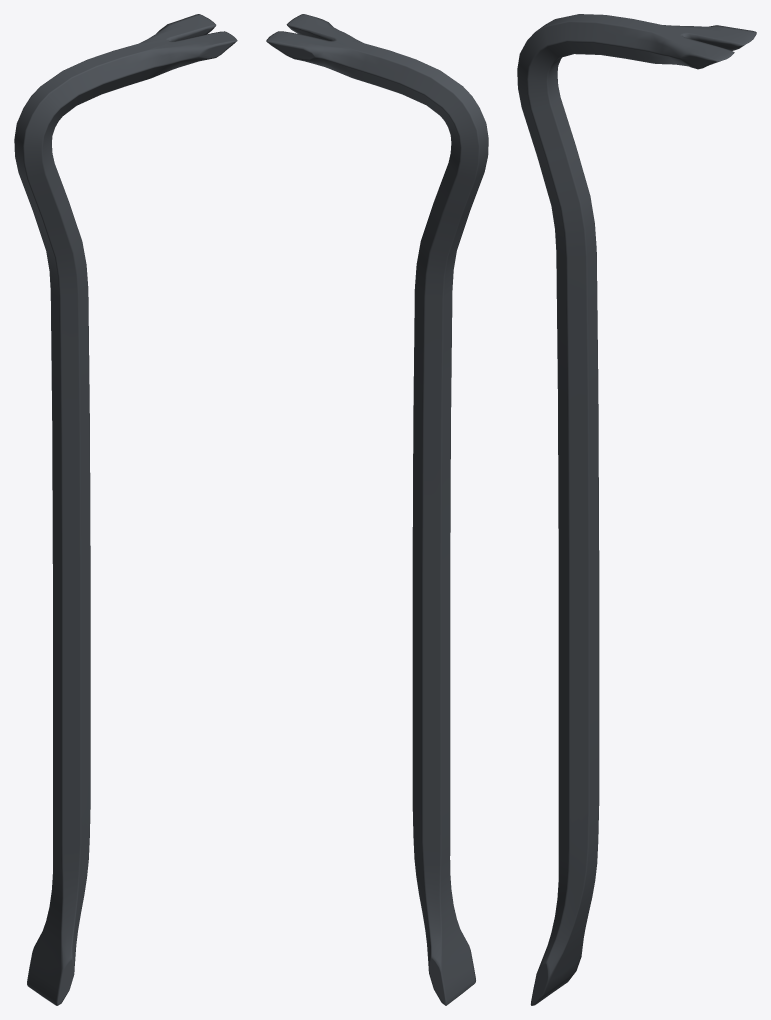
Rendered from crowbar.fbx.
3 renders of one model, left to right at view 1: azimuth 30°, elevation 25°; view 2: azimuth 150°, elevation 25°; view 3: azimuth 330°, elevation 25°, orthographic. The views are drawn at different scales.
Parts seen in each view (by area): view 1: crowbar_01; view 2: crowbar_01; view 3: crowbar_01.
Part boxes in pixels (bbox=[...]): crowbar_01: bbox=[14, 14, 237, 1005]; crowbar_01: bbox=[266, 14, 488, 1005]; crowbar_01: bbox=[517, 14, 756, 1005].
Bounding box in the file's own units: 14.51 × 45.8 × 199.
